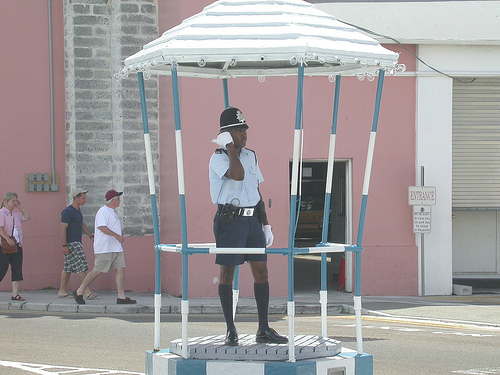without_mask: (219, 123, 253, 154), (2, 194, 22, 213), (104, 193, 122, 211), (71, 192, 89, 210)
